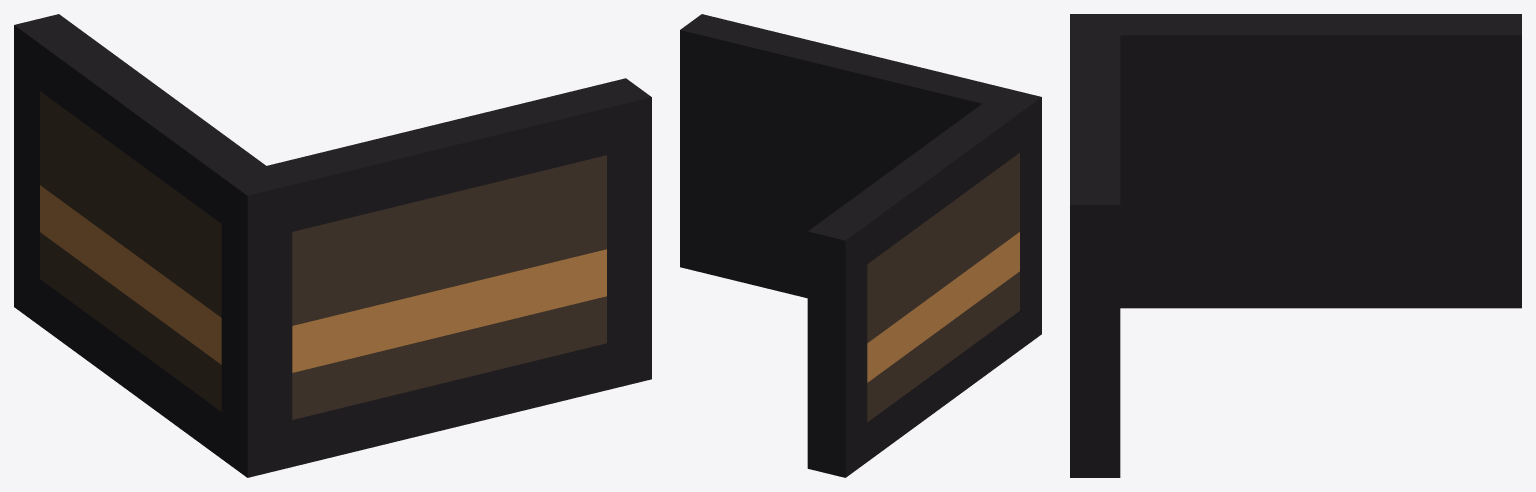
File: archer_BracerL.glb
3 renders of one model, left to right at view 1: azimuth 30°, elevation 25°; view 2: azimuth 150°, elevation 25°; view 3: azimuth 270°, elevation 25°, orthographic. The views are drawn at different scales.
Parts seen in each view (by area): view 1: archer_BracerL; view 2: archer_BracerL; view 3: archer_BracerL.
Part boxes in pixels (x1,y1,x2,y2): archer_BracerL: (14, 14, 651, 477); archer_BracerL: (680, 14, 1041, 477); archer_BracerL: (1070, 14, 1521, 477).
Bounding box in the file's own units: 1.12 × 0.75 × 1.12.
Materials: 1 (1 with a texture image).
